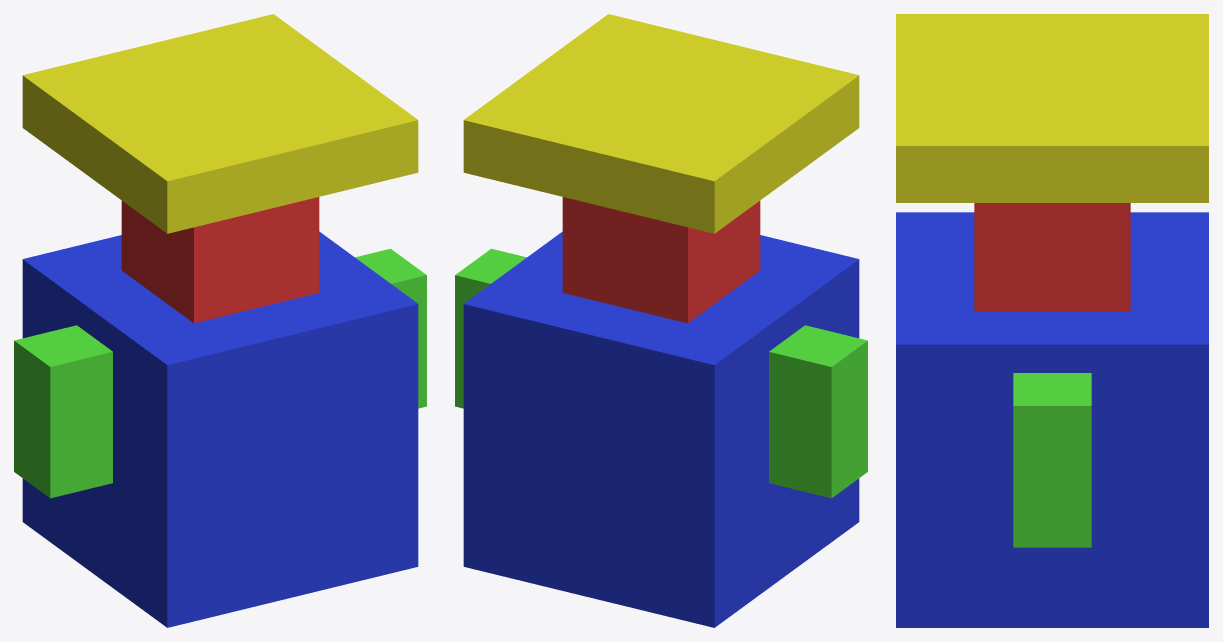
The model's file is robot.glb.
The picture shows the model from 3 angles, left to right: view 1: azimuth 30°, elevation 25°; view 2: azimuth 150°, elevation 25°; view 3: azimuth 270°, elevation 25°; orthographic projection. The views are drawn at different scales.
Visible parts, largest first — view 1: Body, Hat, Head, Left Arm, Right Arm; view 2: Body, Hat, Head, Left Arm, Right Arm; view 3: Body, Hat, Head, Right Arm.
Part boxes in pixels (left/top/right/bottom): Body: left=22, top=231, right=418, bottom=627; Hat: left=22, top=14, right=418, bottom=233; Head: left=121, top=197, right=319, bottom=323; Left Arm: left=14, top=325, right=112, bottom=498; Right Arm: left=355, top=248, right=426, bottom=408; Body: left=463, top=231, right=859, bottom=627; Hat: left=463, top=14, right=859, bottom=233; Head: left=562, top=197, right=760, bottom=323; Left Arm: left=769, top=325, right=867, bottom=498; Right Arm: left=455, top=248, right=526, bottom=408; Body: left=896, top=212, right=1208, bottom=627; Hat: left=896, top=14, right=1208, bottom=202; Head: left=974, top=203, right=1130, bottom=311; Right Arm: left=1013, top=373, right=1091, bottom=547.
Bounding box in the file's own units: 3 × 3.4 × 2.
